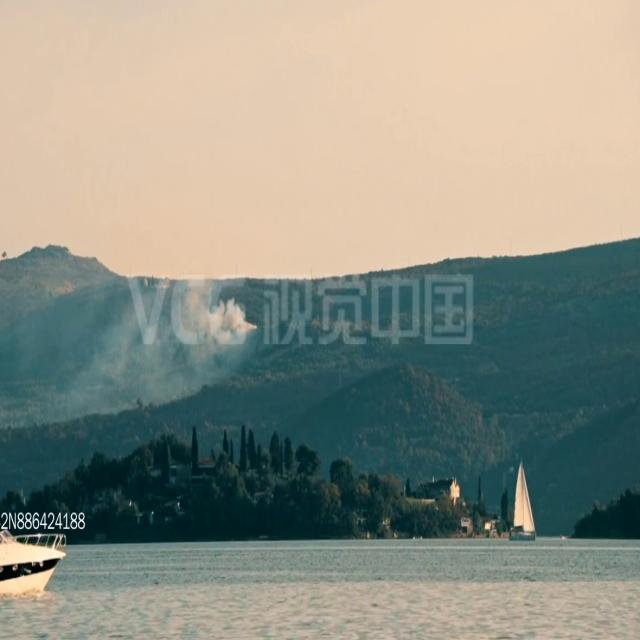houseboat: (0, 514, 67, 602)
